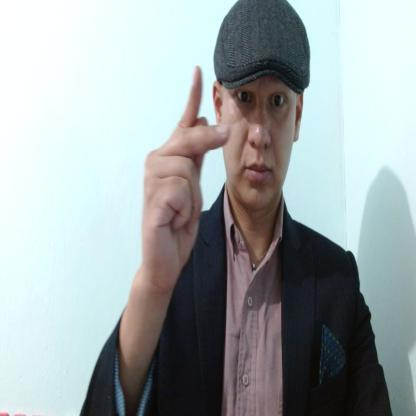P: (140, 60, 230, 295)
